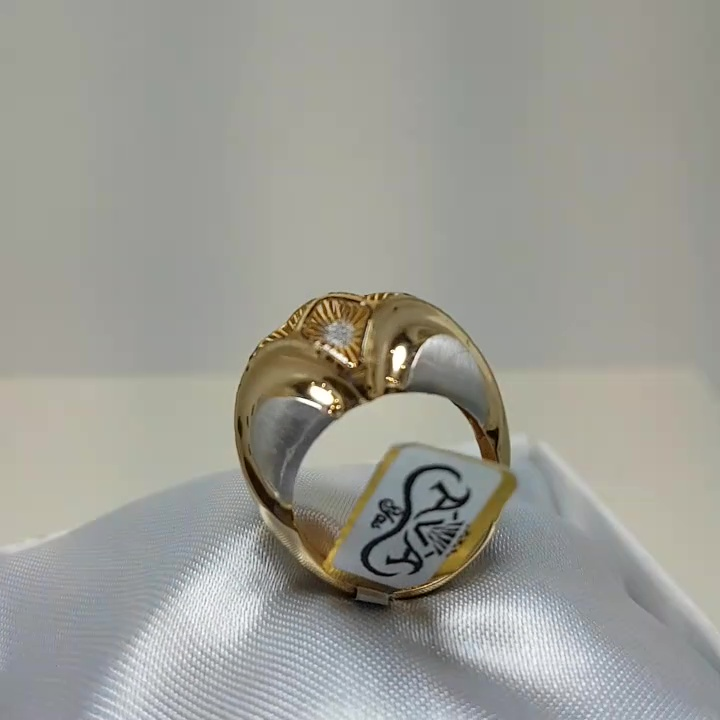Ring 2: (191, 285, 527, 622)
